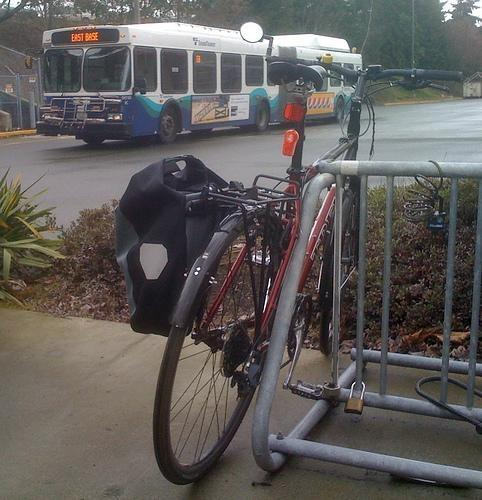bicycle: (149, 22, 466, 486)
bus: (21, 14, 372, 138)
